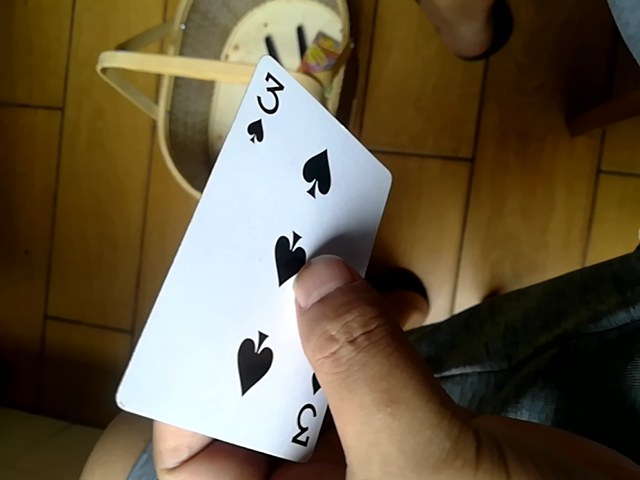ht 3: (117, 52, 393, 466)
